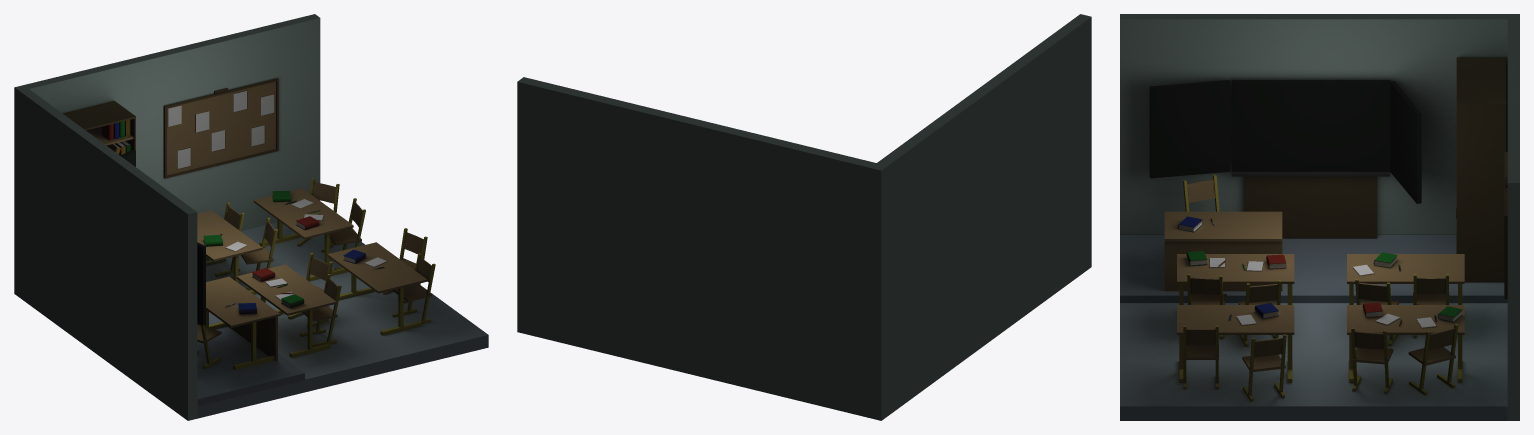
3 views of the same model, side by side, from view 1: azimuth 30°, elevation 25°; view 2: azimuth 150°, elevation 25°; view 3: azimuth 270°, elevation 25° (orthographic). The views are drawn at different scales.
Parts seen in each view (by area): view 1: school_schoolMaterial_0; view 2: school_schoolMaterial_0; view 3: school_schoolMaterial_0.
Part boxes in pixels (left/top/right/bottom): school_schoolMaterial_0: left=14, top=14, right=488, bottom=420; school_schoolMaterial_0: left=517, top=14, right=1091, bottom=420; school_schoolMaterial_0: left=1120, top=14, right=1519, bottom=420.
Bounding box in the file's own units: 7.87 × 5.17 × 7.87.
Materials: 1 (1 with a texture image).
